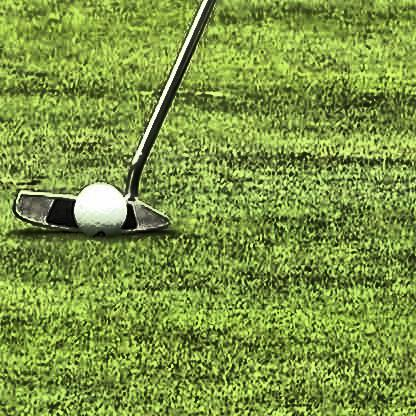golfball: (72, 177, 126, 233)
